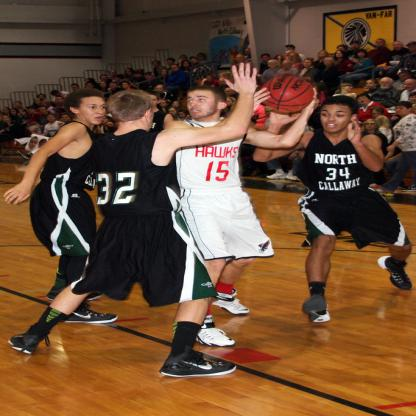Ball: (262, 75, 316, 113)
